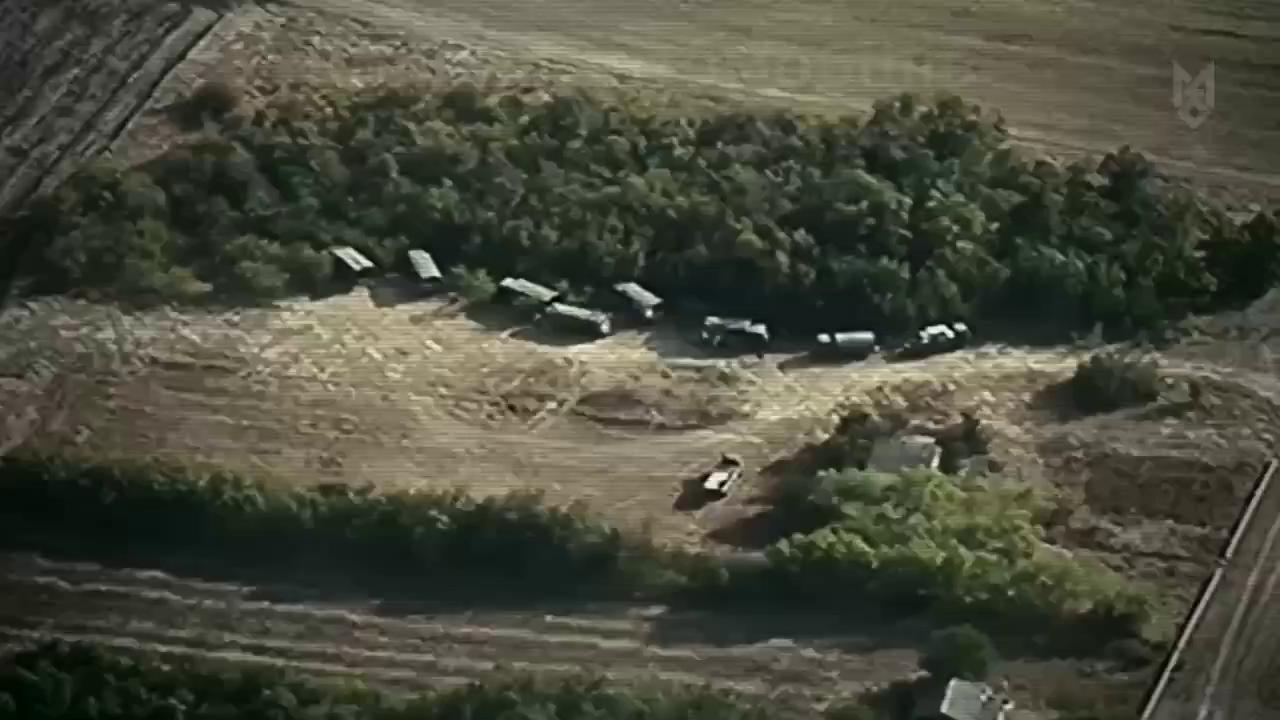tank: (909, 318, 972, 369), (545, 299, 614, 343), (702, 312, 771, 354), (491, 268, 557, 311), (613, 274, 664, 327), (322, 241, 375, 288), (812, 327, 879, 364), (402, 244, 446, 300), (699, 451, 745, 499)
